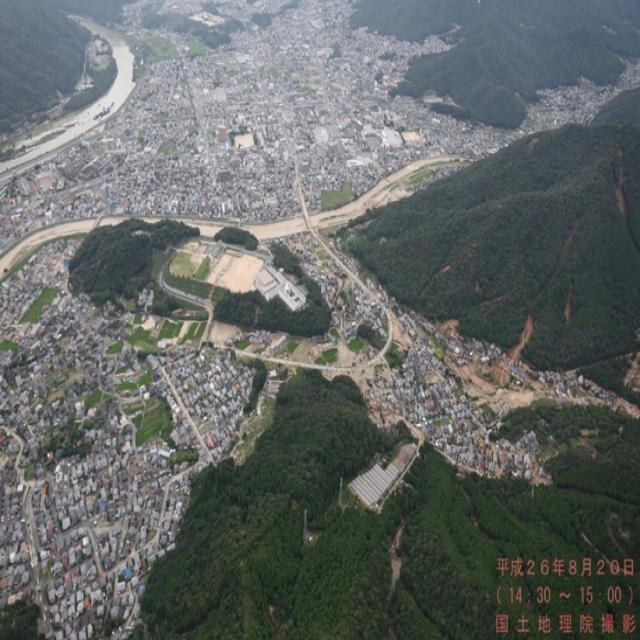Debris-flow: (509, 218, 578, 362), (615, 148, 628, 222), (390, 527, 402, 595), (625, 352, 640, 390), (626, 223, 640, 252), (565, 279, 573, 322)
